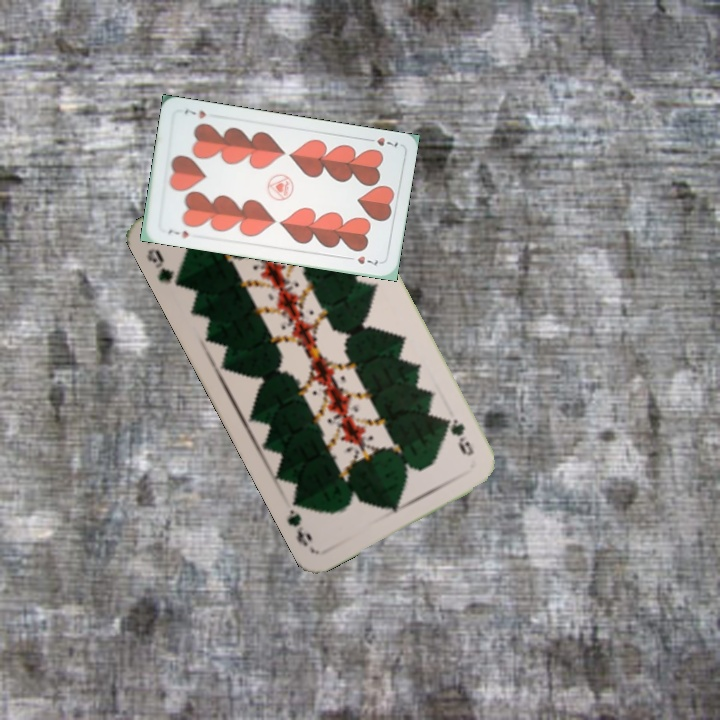G9: (142, 244, 188, 290), (439, 414, 477, 459)
H7: (362, 133, 401, 149), (164, 225, 191, 241)
